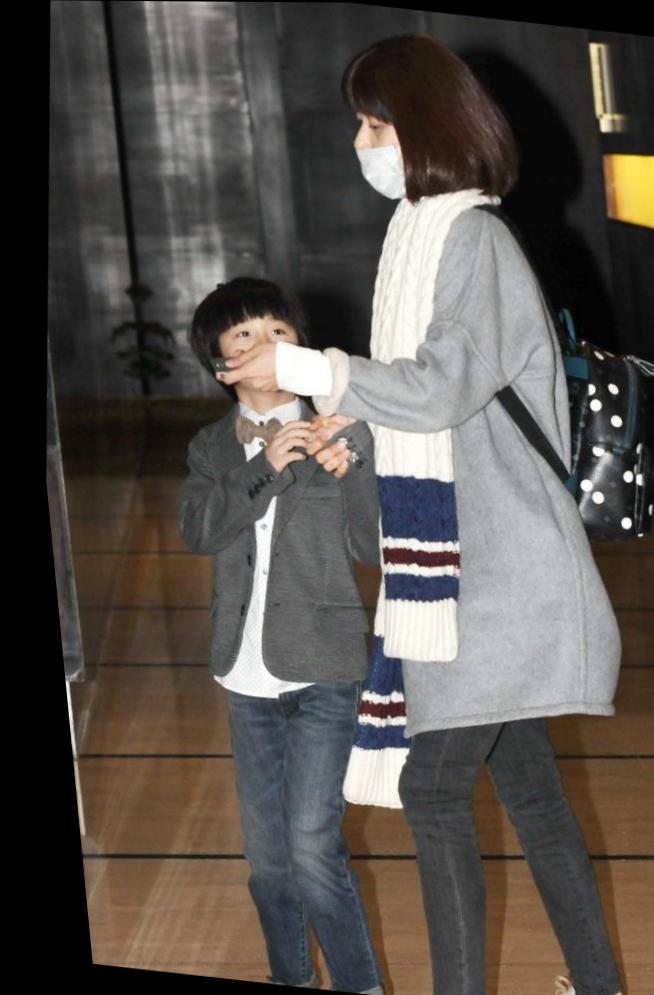NONE: (196, 303, 304, 403)
WRONG: (341, 109, 440, 202)
